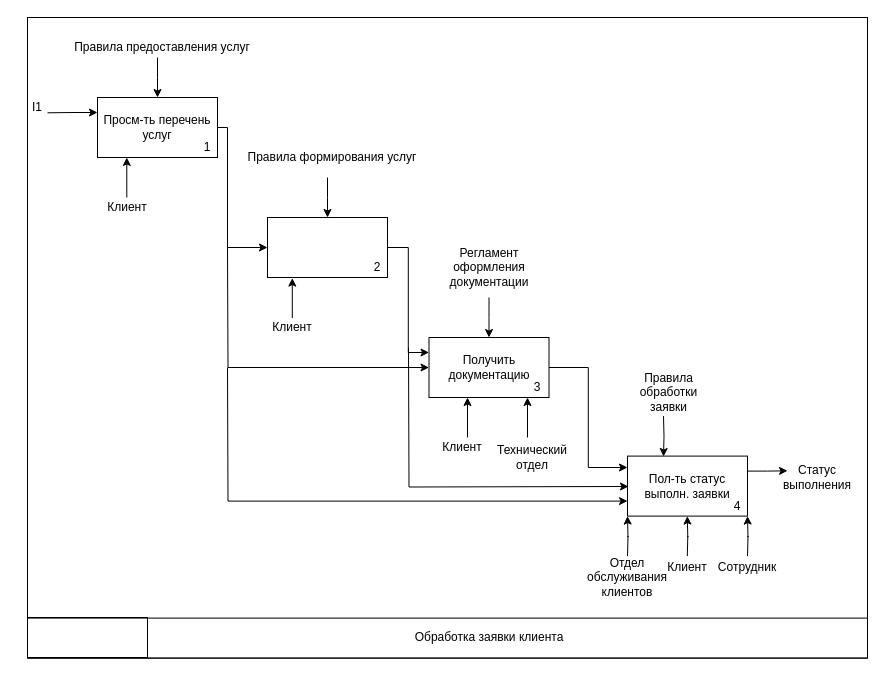
This 885x676 diagram has some shape labels left out. The box of each missing label's shape, as (x1, y1, x2, y2) in pixels:
NODE: A2: (26, 616, 148, 658)
Выбрать услугу: (266, 216, 388, 278)
